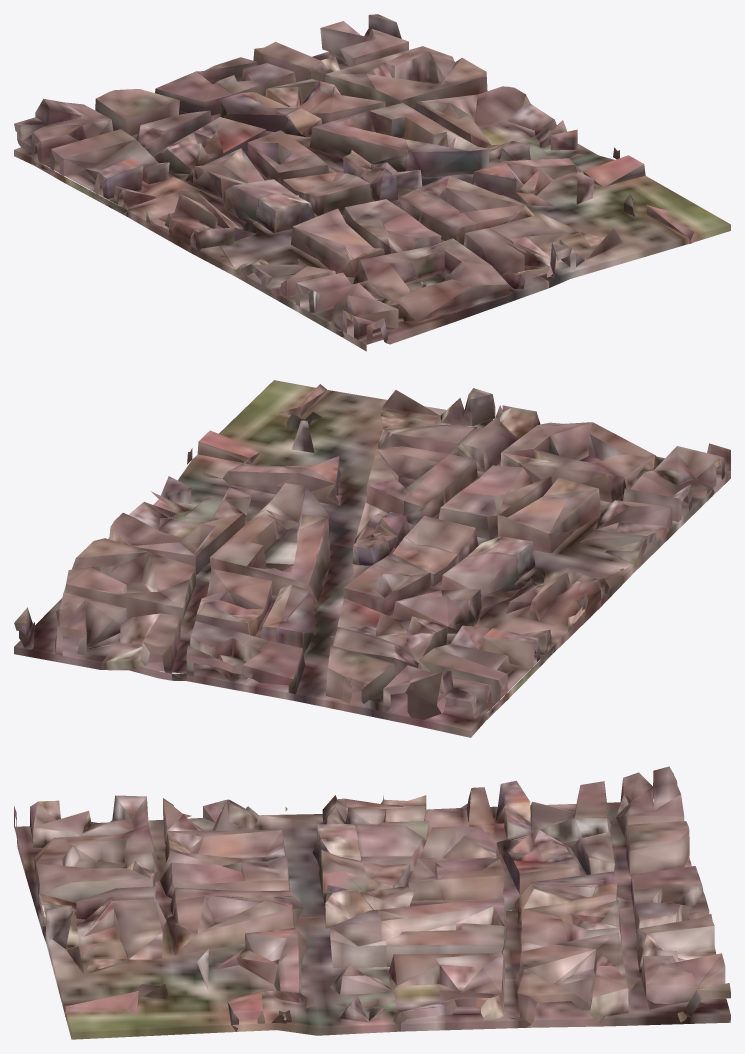
The picture shows the model from 3 angles, top to bottom: view 1: azimuth 30°, elevation 25°; view 2: azimuth 150°, elevation 25°; view 3: azimuth 270°, elevation 25°; orthographic projection. The views are drawn at different scales.
Visible parts, largest first — view 1: Mesh_0; view 2: Mesh_0; view 3: Mesh_0.
Part boxes in pixels (x1,y1,x2,y2): Mesh_0: [14, 14, 730, 351]; Mesh_0: [14, 380, 730, 737]; Mesh_0: [14, 766, 730, 1039].
Bounding box in the file's own units: 532 × 59.45 × 659.
Materials: 2 (2 with a texture image).
